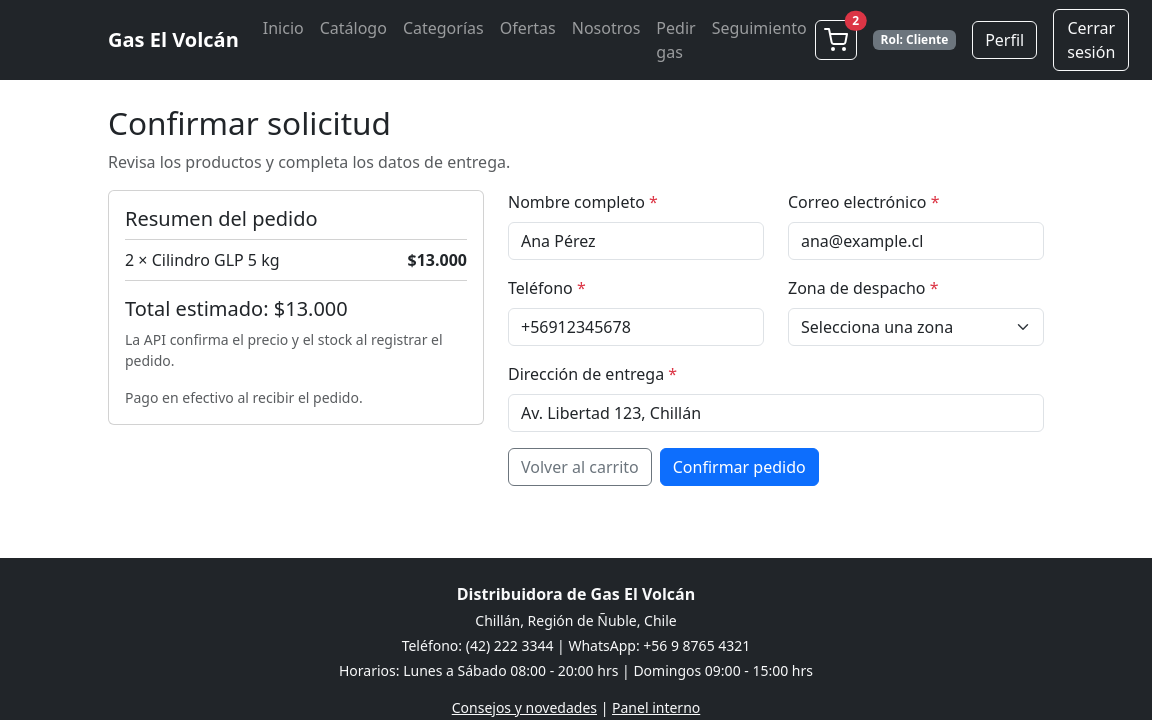
Test case: Checkout › prellena el perfil, valida la zona y registra el pedido con el carrito
Expected: the field labelled "Nombre completo *" holds "Ana Pérez", [508,222,764,260]
Expected: the field labelled "Correo electrónico *" holds "ana@example.cl", [788,222,1044,260]
Click the button "Confirmar pedido" at (739, 467), box [660,448,819,486]
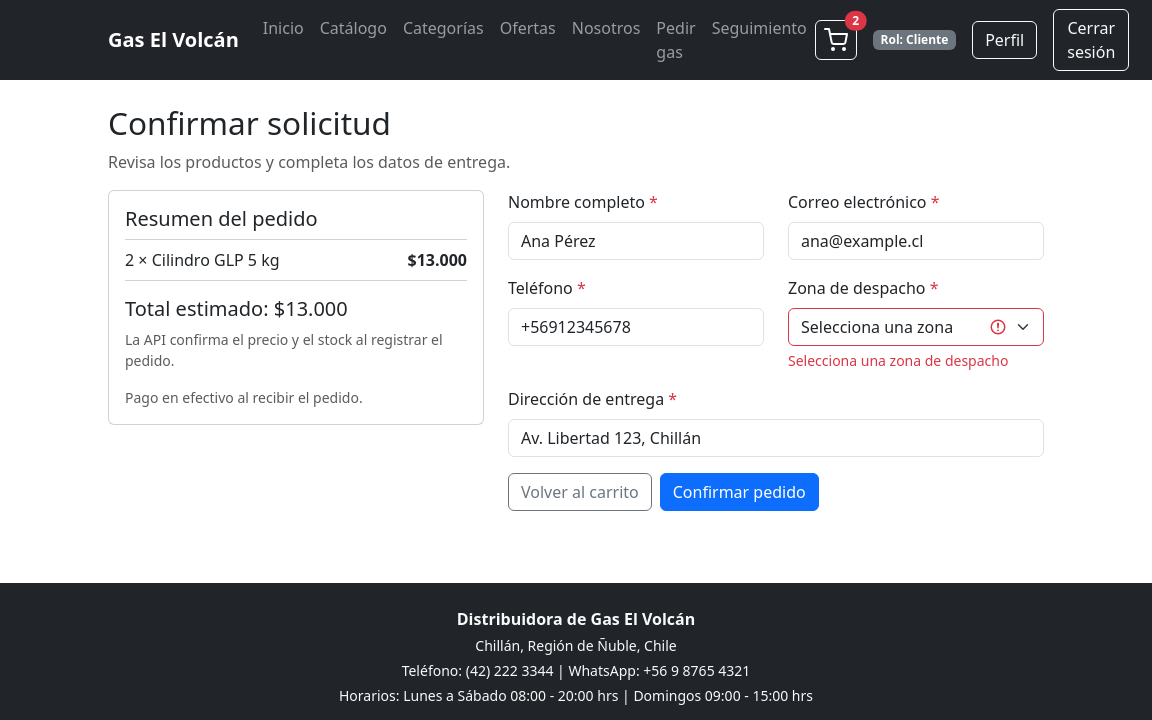
Expected: the text "Selecciona una zona de despacho" is shown, [788,350,1044,371]
Select "Zona Centro" in the dropdown labelled "Zona de despacho *" at (916, 327), box [788,308,1044,346]
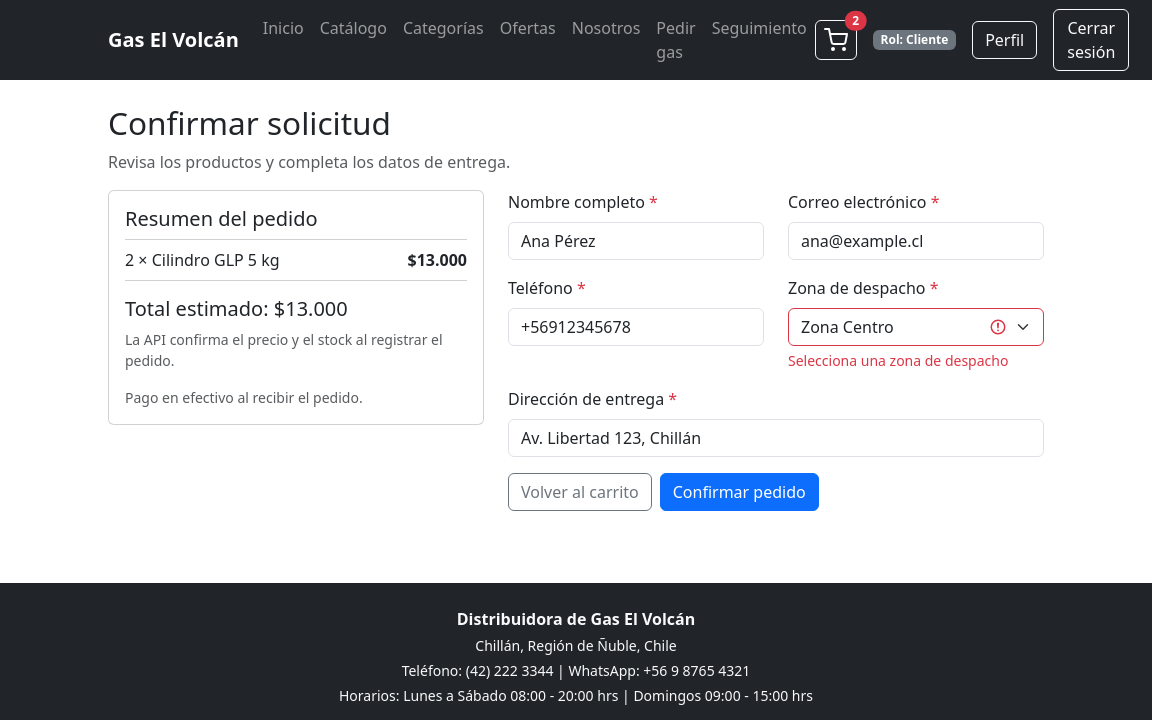
Click the button "Confirmar pedido" at (739, 492), box [660,473,819,511]
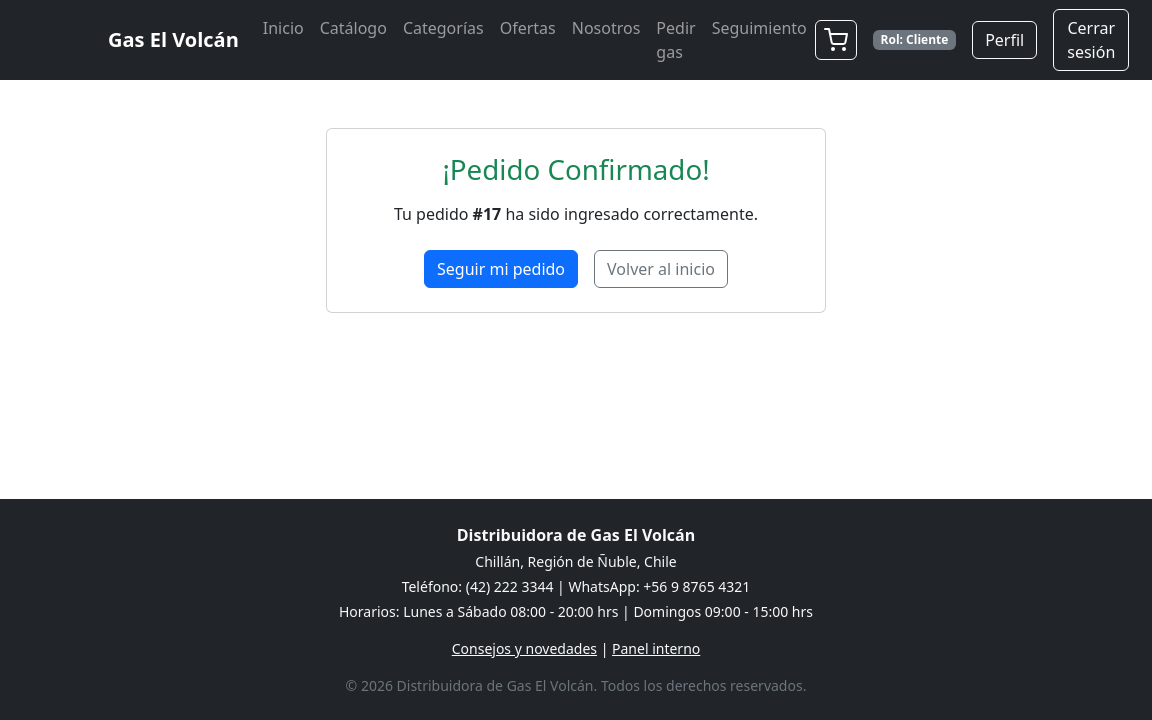
Expected: the heading "¡Pedido Confirmado!" is shown, [442,150,710,188]
